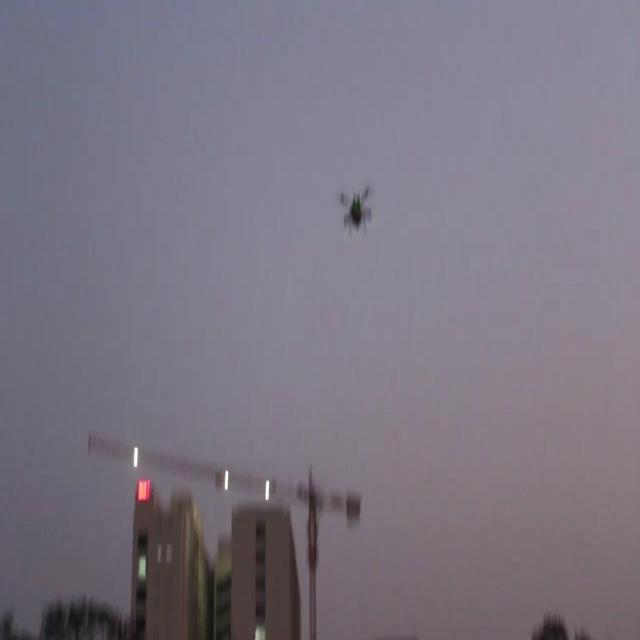UAV: (340, 185, 372, 238)
